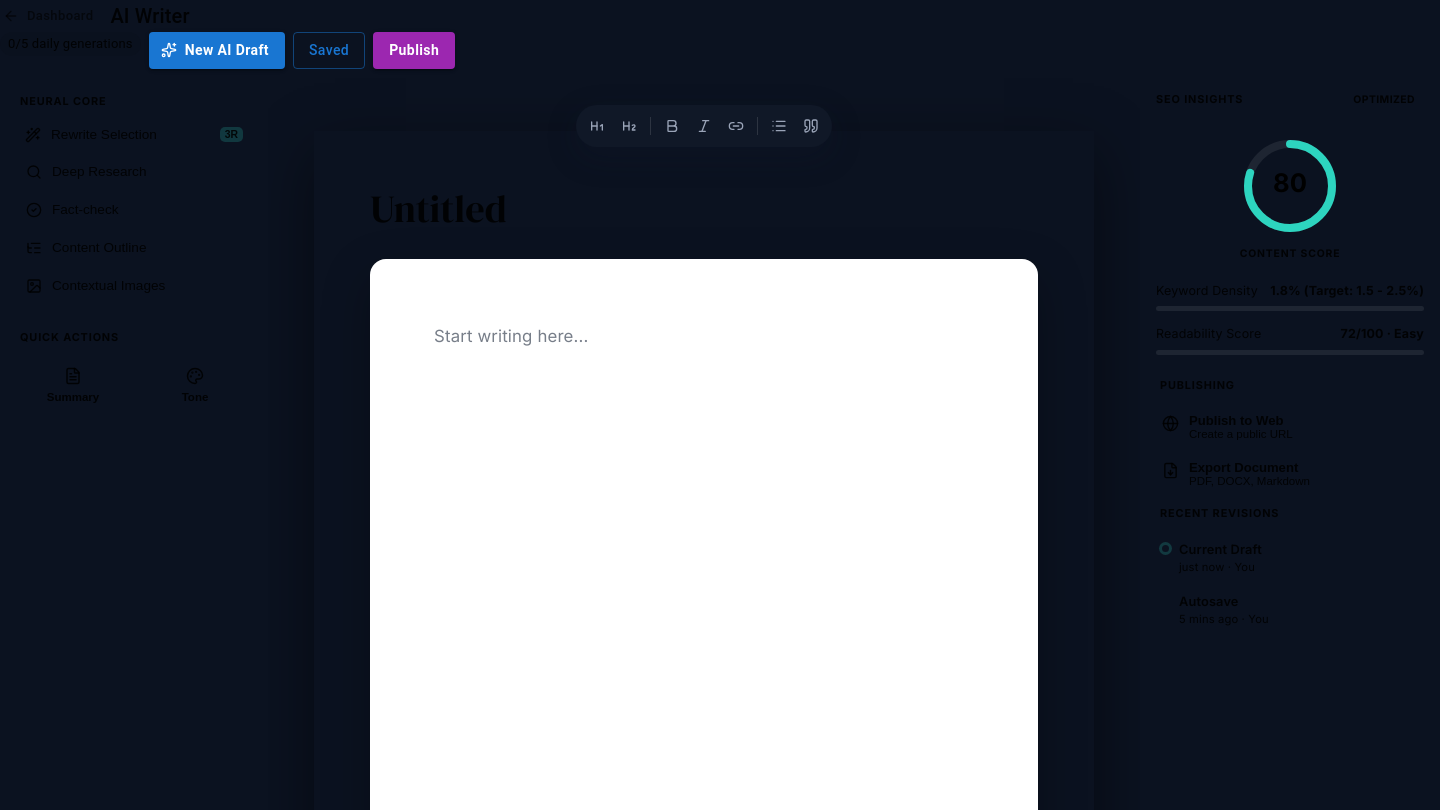
it: AI Writer — limit reached › disables the generate action rather than letting it fail
Click the button "New AI Draft": (217,50) left=149, top=32, right=285, bottom=68
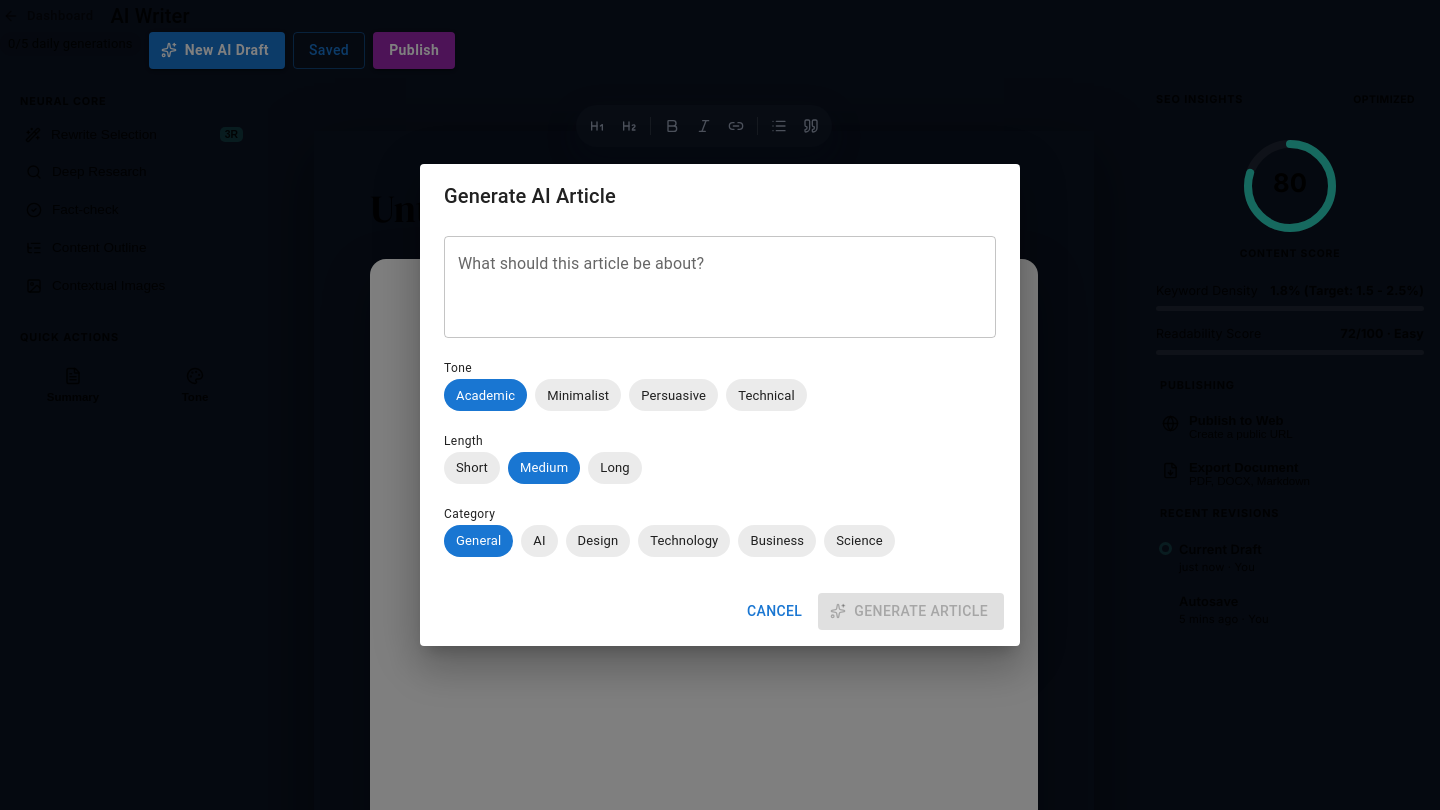
expect the button "Generate Article" is disabled: met, box left=818, top=593, right=1004, bottom=630
